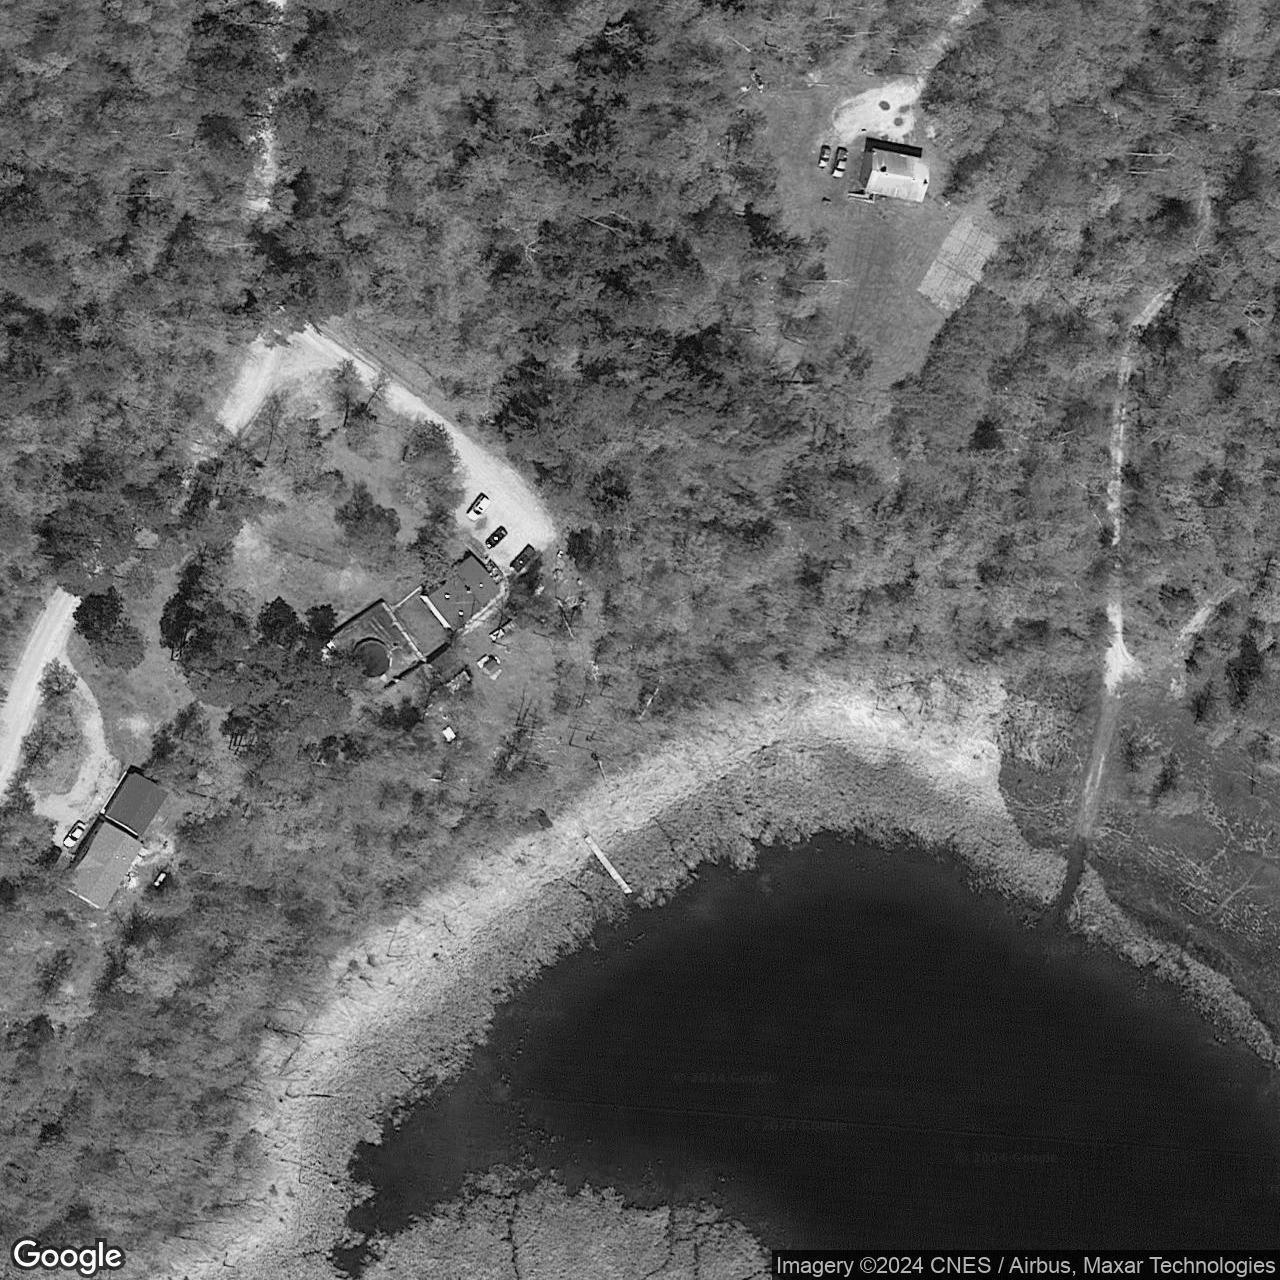Garage: (100, 771, 168, 838)
House: (56, 819, 143, 912), (416, 552, 503, 632), (857, 147, 932, 204)
Propane: (151, 867, 168, 890)
